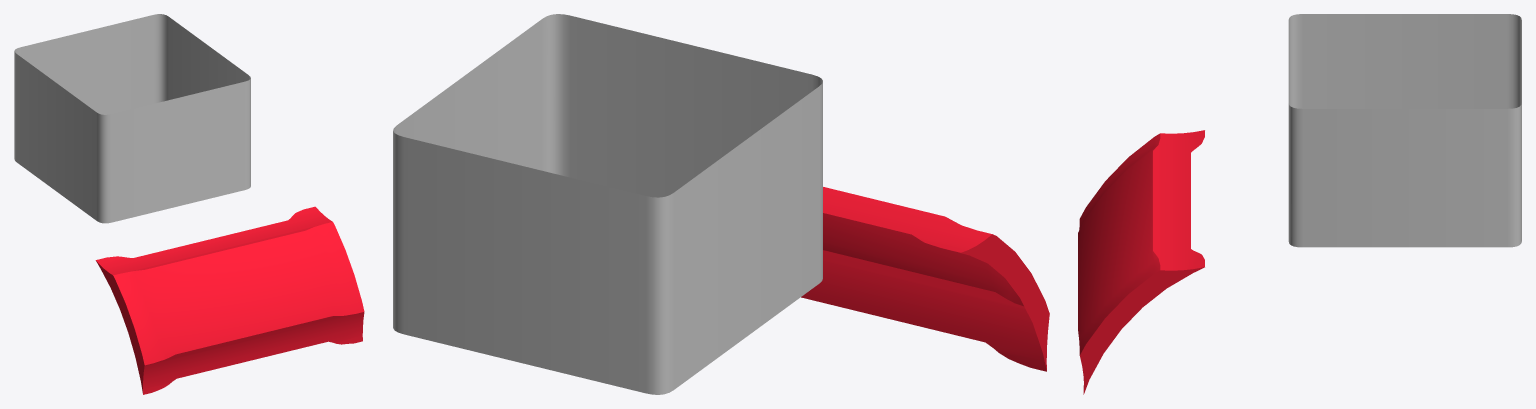
File: FMRI_parts.FBX
3 renders of one model, left to right at view 1: azimuth 30°, elevation 25°; view 2: azimuth 150°, elevation 25°; view 3: azimuth 270°, elevation 25°, orthographic. The views are drawn at different scales.
Visible parts, largest first — view 1: FMRIparts; view 2: FMRIparts; view 3: FMRIparts.
Part boxes in pixels (x1,y1,x2,y2): FMRIparts: [14, 14, 364, 394]; FMRIparts: [393, 14, 1049, 394]; FMRIparts: [1078, 14, 1521, 394].
Bounding box in the file's own units: 1.69 × 2.32 × 1.55.
